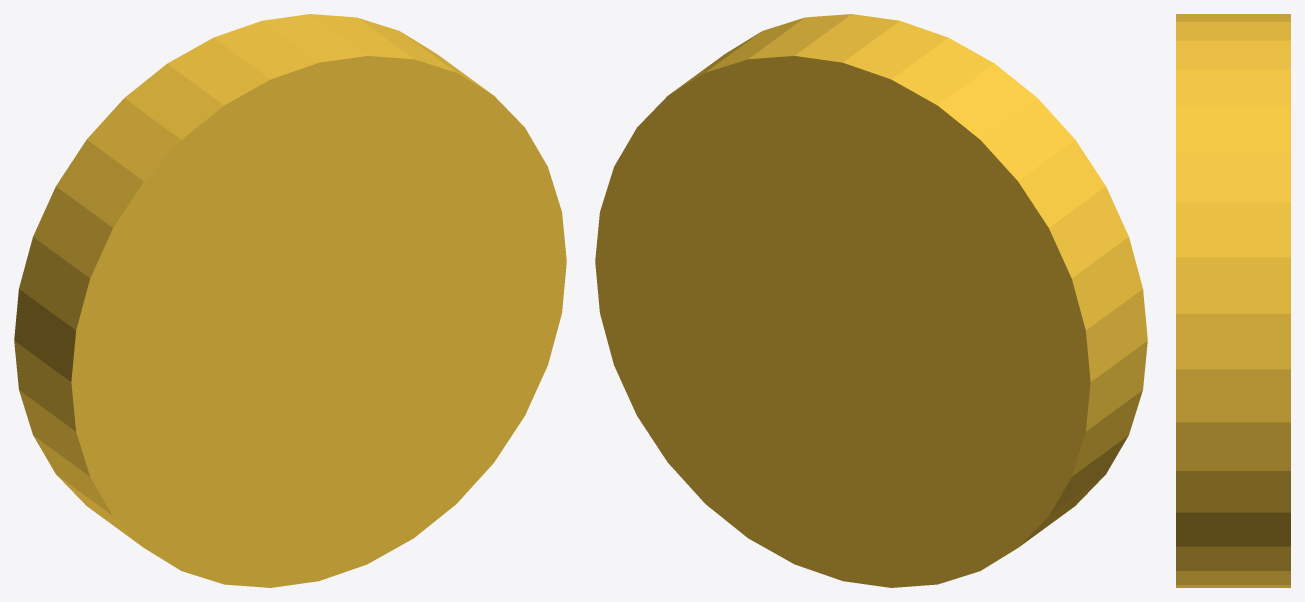
The model's file is coin.glb.
The picture shows the model from 3 angles, left to right: view 1: azimuth 30°, elevation 25°; view 2: azimuth 150°, elevation 25°; view 3: azimuth 270°, elevation 25°; orthographic projection.
Visible parts, largest first — view 1: coin; view 2: coin; view 3: coin.
Boxes of the visible parts, x1,y1,x2,y2 form: coin: [14, 14, 566, 587]; coin: [595, 14, 1147, 587]; coin: [1176, 14, 1290, 587].
Bounding box in the file's own units: 0.3 × 0.3 × 0.06.
